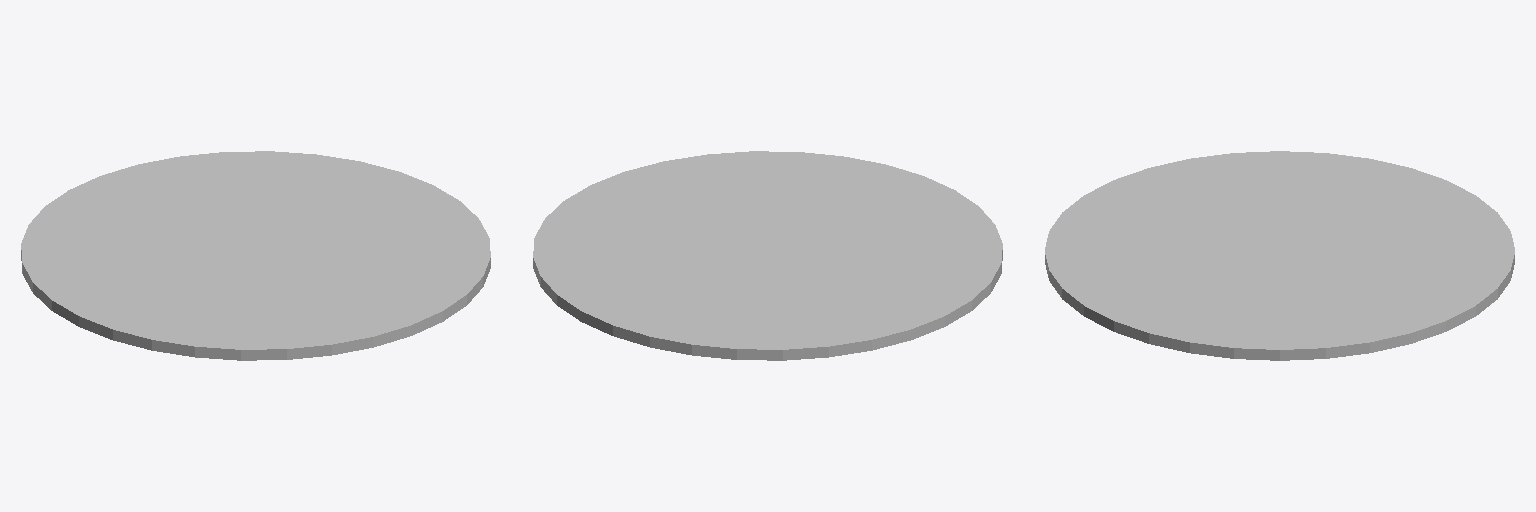
The model's file is PredictionSphere.obj.
The picture shows the model from 3 angles: view 1: azimuth 30°, elevation 25°; view 2: azimuth 150°, elevation 25°; view 3: azimuth 270°, elevation 25°; orthographic projection.
Visible parts, largest first — view 1: 円柱; view 2: 円柱; view 3: 円柱.
Boxes of the visible parts, x1=… form: 円柱: x1=21, y1=151, x2=490, y2=360; 円柱: x1=533, y1=151, x2=1002, y2=360; 円柱: x1=1045, y1=151, x2=1514, y2=360.
Size of the model in its own units: 2 by 0.0509 by 2.